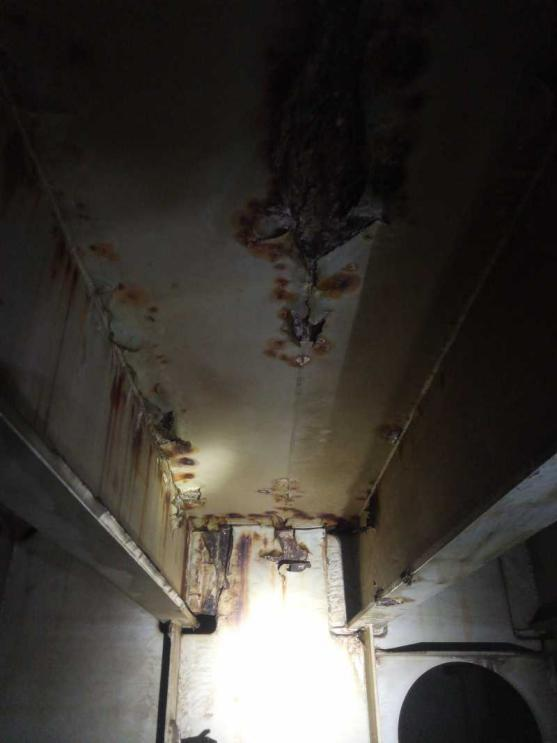corrosion: (237, 93, 376, 371), (185, 528, 260, 627), (116, 412, 160, 543), (143, 489, 186, 578), (154, 397, 199, 467), (265, 532, 324, 583), (255, 461, 310, 508), (108, 278, 154, 319), (80, 223, 114, 268), (104, 363, 132, 404)
